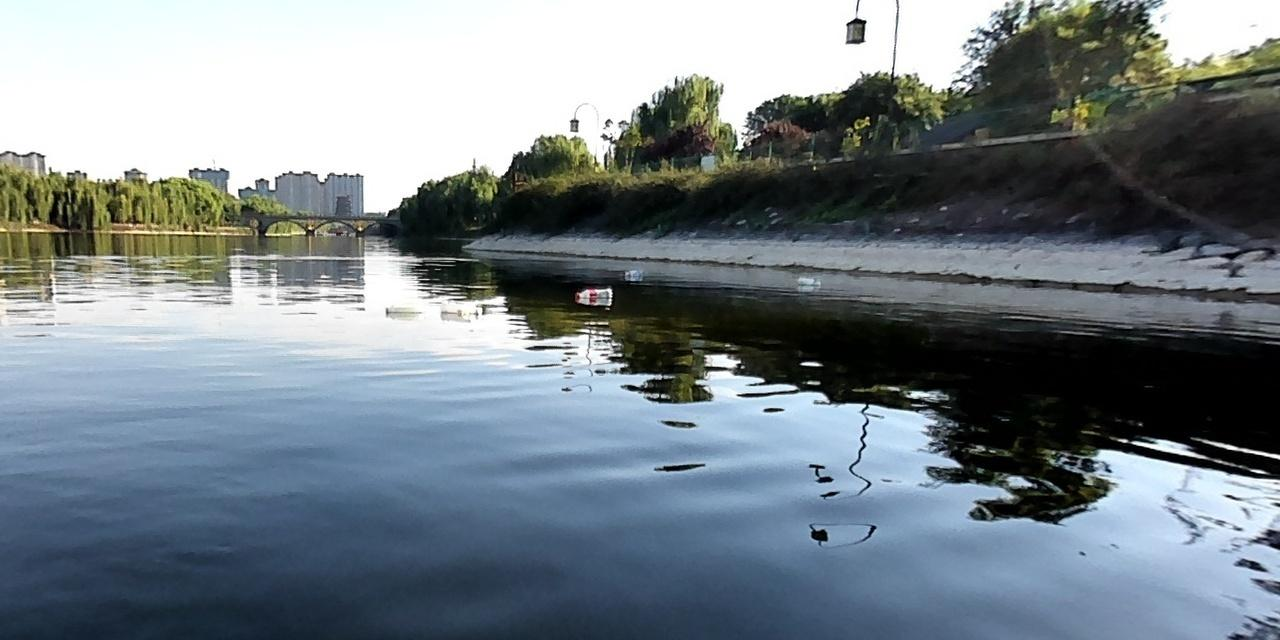bottle: (437, 298, 483, 317), (572, 283, 614, 301), (381, 298, 424, 314), (793, 272, 821, 287), (620, 266, 646, 277)
